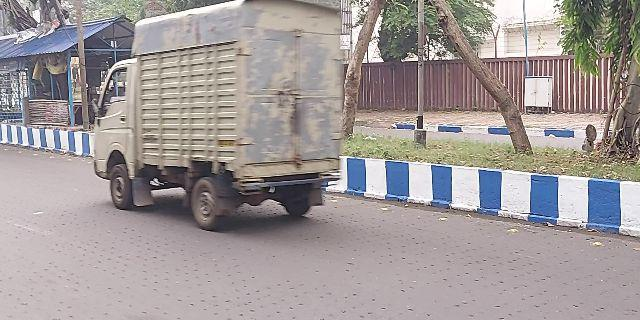Minitruck: (94, 1, 350, 231)
